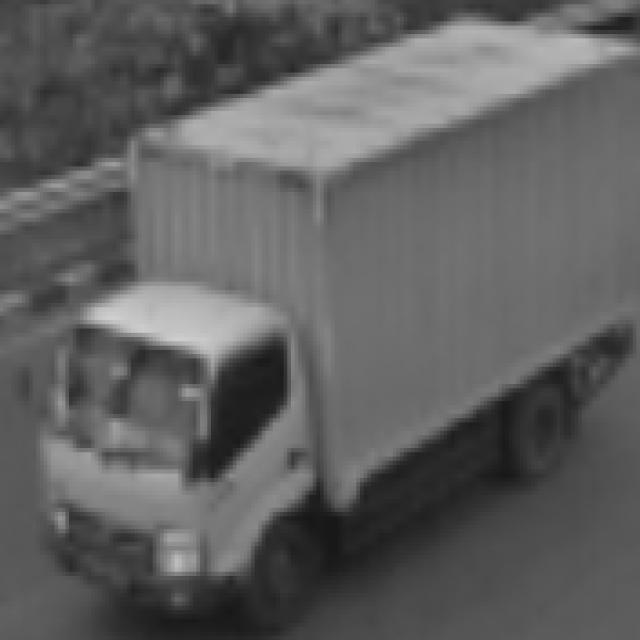truck: (9, 266, 335, 640)
